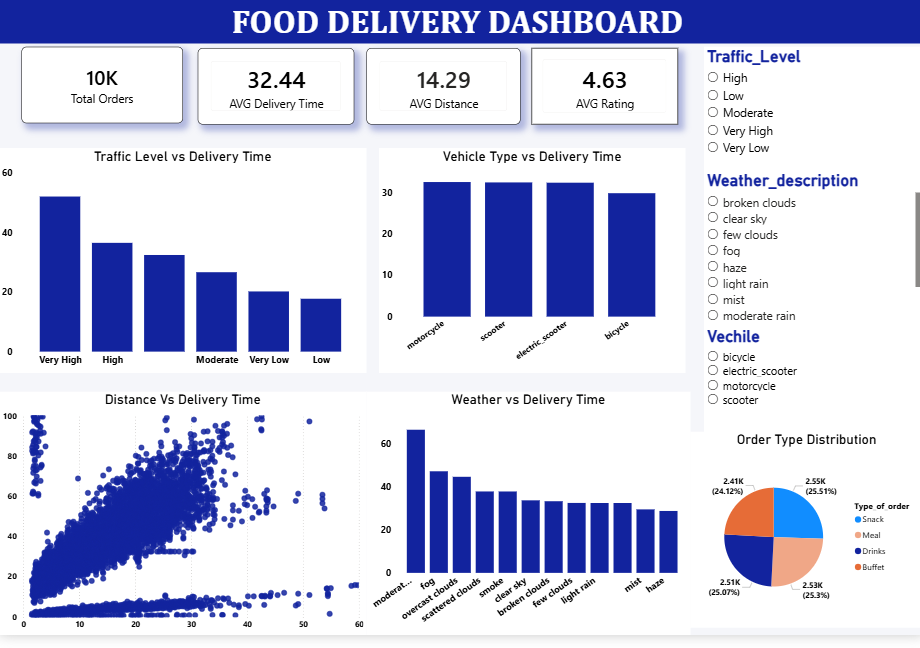

What the dashboard file says about the page in this screenshot:
{"tool":"powerbi","page":{"name":"Page 1","canvas":[1480,1020],"ordinal":0},"visuals":[{"type":"textbox","box":[0,0,1479.4,72.8],"z":0},{"type":"cardVisual","fields":{"Data":["cleaned_food_delivery_data.Total Orders"]},"box":[36,78,258,122],"z":2},{"type":"cardVisual","fields":{"Data":["cleaned_food_delivery_data.AVG Delivery Time"]},"box":[318,80,250,122],"z":3},{"type":"cardVisual","fields":{"Data":["cleaned_food_delivery_data.AVG Distance"]},"box":[588,80,246,122],"z":4},{"type":"cardVisual","fields":{"Data":["cleaned_food_delivery_data.AVG Rating"]},"box":[852,80,234,122],"z":5},{"type":"clusteredColumnChart","title":"Traffic Level vs Delivery Time","fields":{"Category":["cleaned_food_delivery_data.Traffic_Level"],"Y":["Avg(cleaned_food_delivery_data.TARGET)"]},"box":[0,240,588,360],"z":6},{"type":"scatterChart","title":"Distance Vs Delivery Time","fields":{"X":["cleaned_food_delivery_data.Distance (km)"],"Y":["cleaned_food_delivery_data.TARGET"]},"box":[0,630,588,390],"z":7},{"type":"clusteredColumnChart","title":"Weather vs Delivery Time","fields":{"Y":["Avg(cleaned_food_delivery_data.TARGET)"],"Category":["cleaned_food_delivery_data.weather_description"]},"box":[588,630,518,390],"z":8},{"type":"clusteredColumnChart","title":"Vehicle Type vs Delivery Time","fields":{"Category":["cleaned_food_delivery_data.Type_of_vehicle"],"Y":["Avg(cleaned_food_delivery_data.TARGET)"]},"box":[608,240,490,360],"z":9},{"type":"listSlicer","fields":{"Values":["cleaned_food_delivery_data.Traffic_Level"]},"box":[1127.8,78,351.7,266.8],"z":10},{"type":"listSlicer","fields":{"Values":["cleaned_food_delivery_data.weather_description"]},"box":[1127.8,275.4,351.7,251.2],"z":11},{"type":"listSlicer","fields":{"Values":["cleaned_food_delivery_data.Type_of_vehicle"]},"box":[1127.8,526.6,351.7,223.5],"z":12},{"type":"pieChart","title":"Order Type Distribution","fields":{"Category":["cleaned_food_delivery_data.Type_of_order"],"Y":["CountNonNull(cleaned_food_delivery_data.ID)"]},"box":[1107,694.7,372.5,313.6],"z":13}]}

Visuals, with their boxes in screenshot pixels (x1, y1, x2, y2), scaled from the page's 1480x1020 canvas onto the 920x648 screenshot:
textbox: 0, 0, 919, 46
cardVisual - cleaned_food_delivery_data.Total Orders: 22, 50, 183, 127
cardVisual - cleaned_food_delivery_data.AVG Delivery Time: 198, 51, 353, 128
cardVisual - cleaned_food_delivery_data.AVG Distance: 366, 51, 518, 128
cardVisual - cleaned_food_delivery_data.AVG Rating: 530, 51, 675, 128
"Traffic Level vs Delivery Time" clusteredColumnChart: 0, 152, 366, 381
"Distance Vs Delivery Time" scatterChart: 0, 400, 366, 647
"Weather vs Delivery Time" clusteredColumnChart: 366, 400, 688, 647
"Vehicle Type vs Delivery Time" clusteredColumnChart: 378, 152, 683, 381
listSlicer - cleaned_food_delivery_data.Traffic_Level: 701, 50, 919, 219
listSlicer - cleaned_food_delivery_data.weather_description: 701, 175, 919, 335
listSlicer - cleaned_food_delivery_data.Type_of_vehicle: 701, 335, 919, 477
"Order Type Distribution" pieChart: 688, 441, 919, 641
